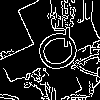Q: (25, 25, 85, 80)
